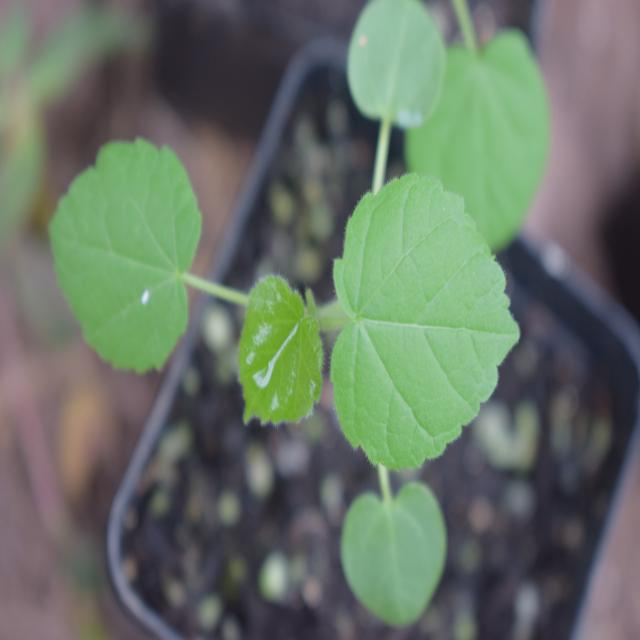abutilon theophrasti: (58, 44, 518, 544)
